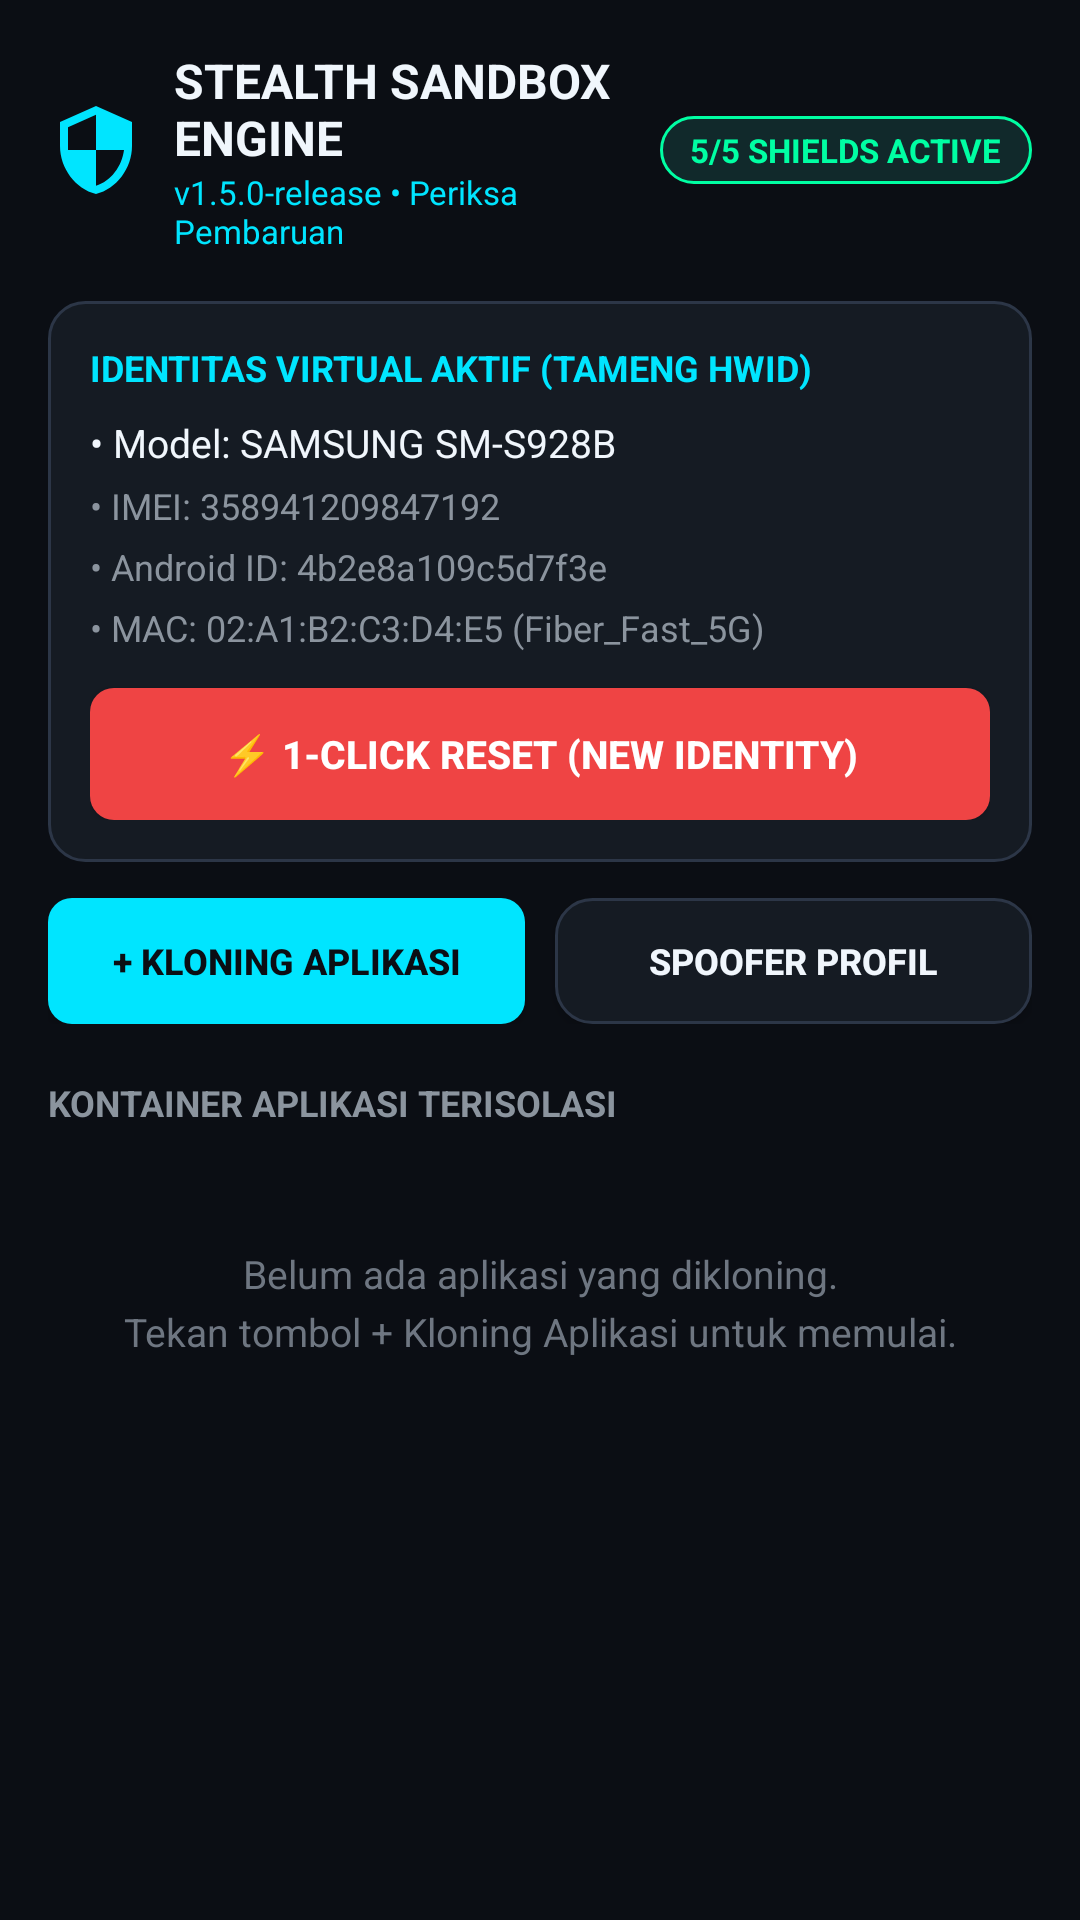

Screen size 1080px×1920px. Icon name, then its box in pixels as bbox(x1, y1, x2, y2):
Shield: bbox(60, 106, 132, 194)
